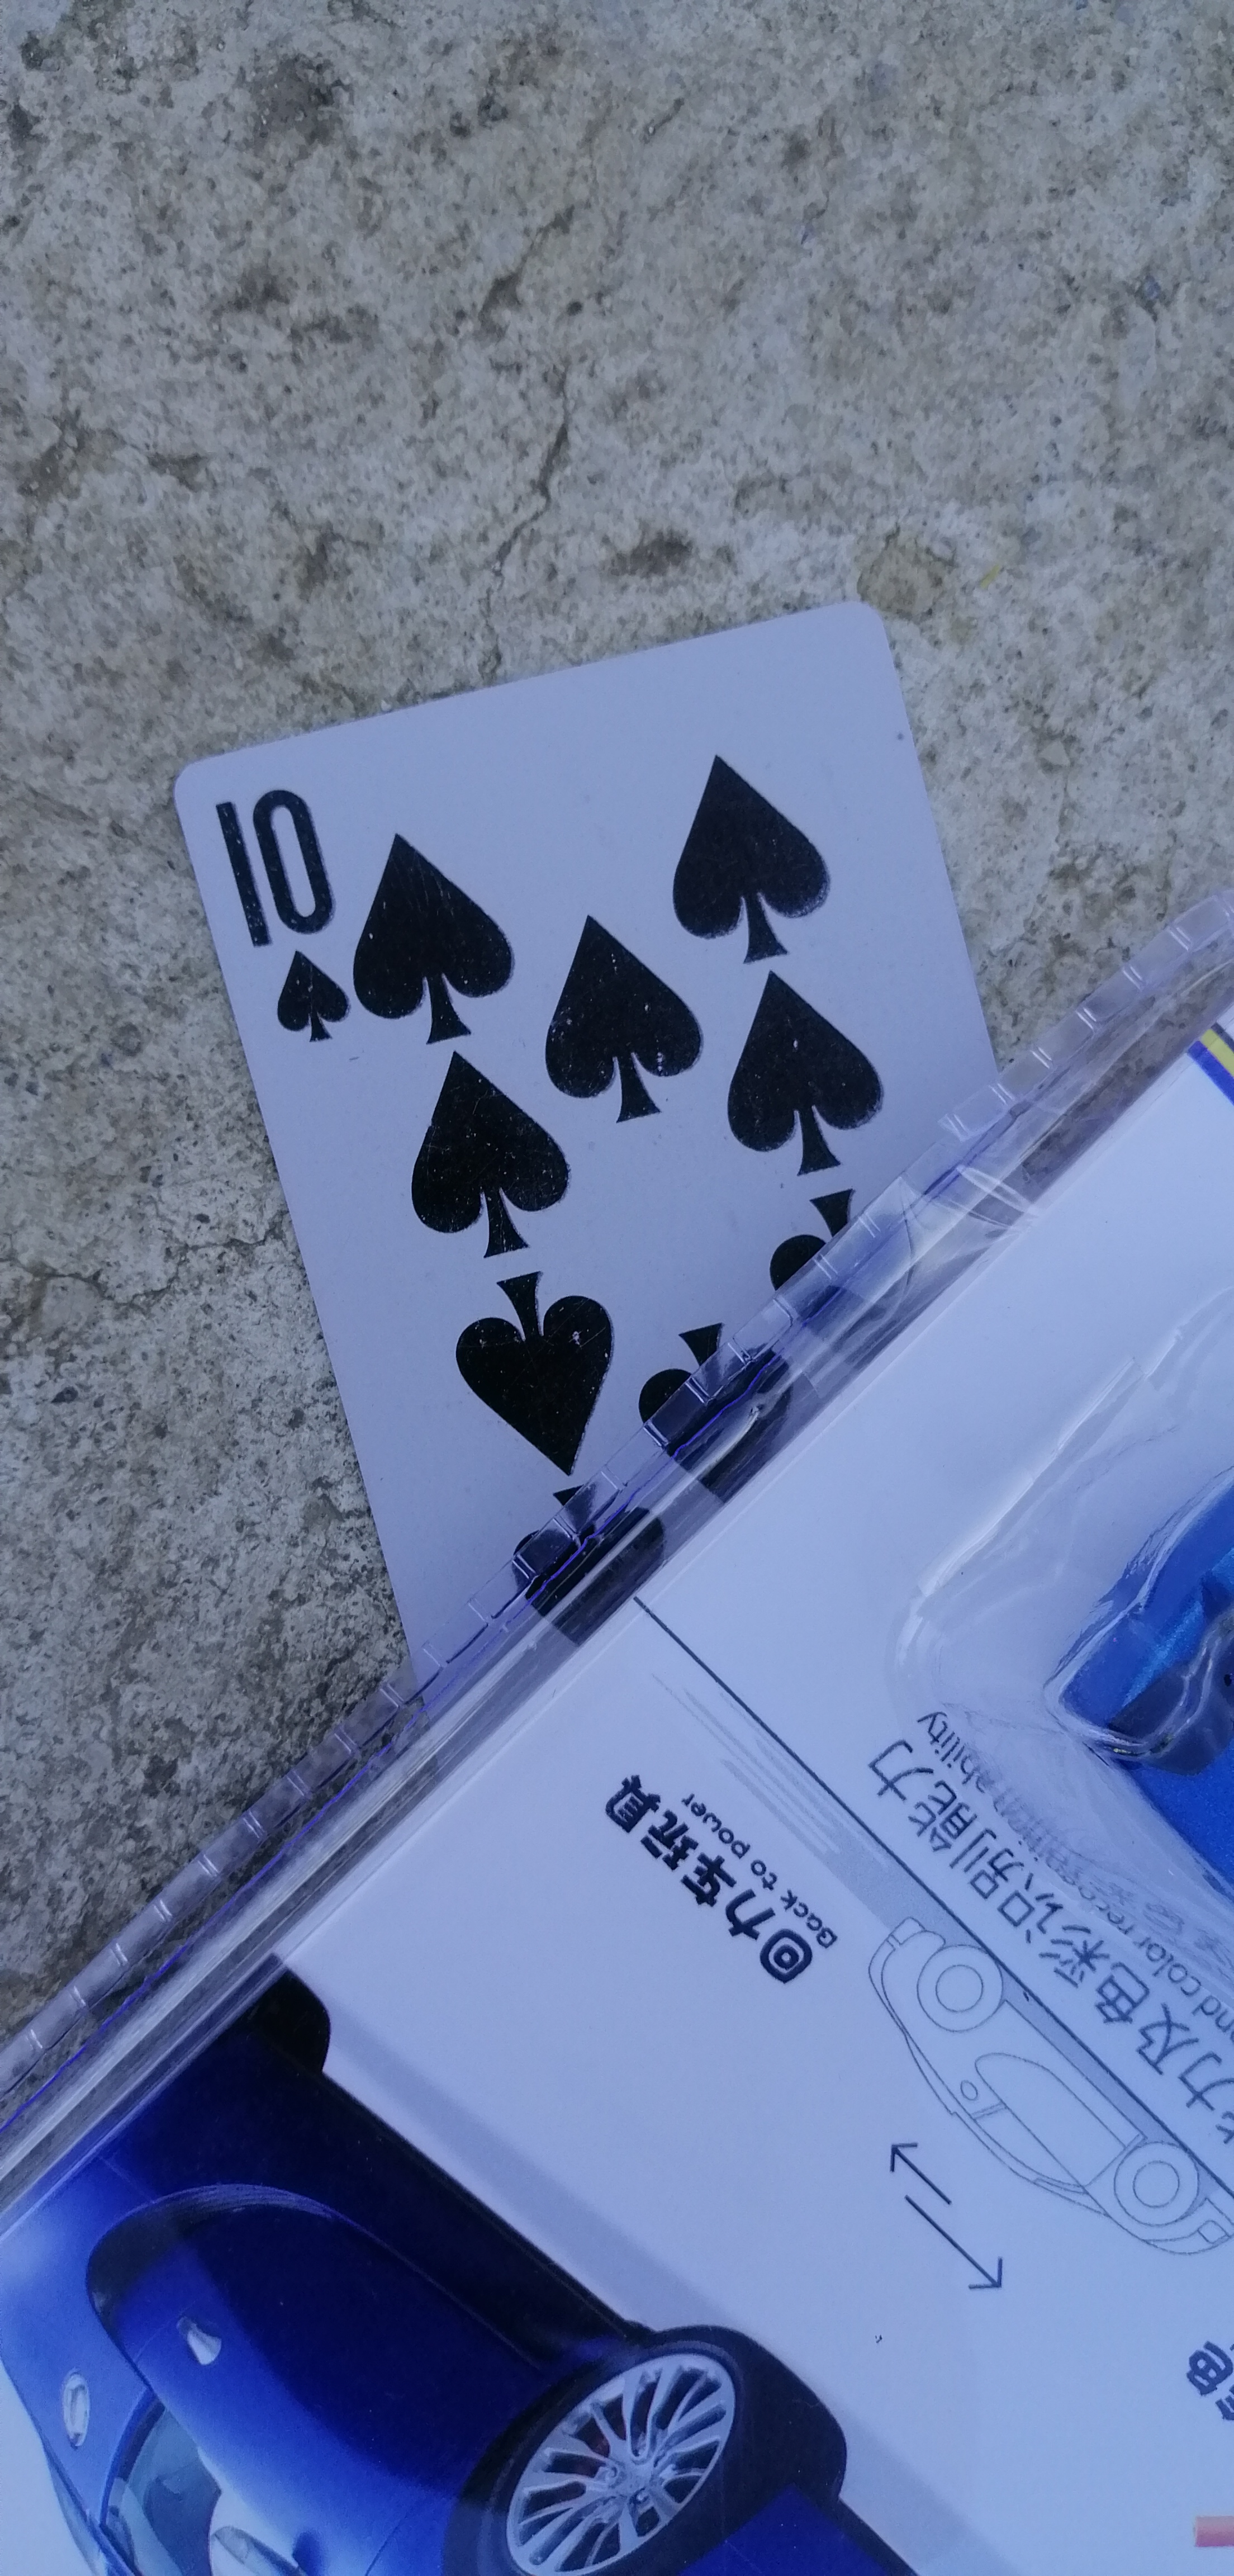ten: (146, 611, 963, 1712)
